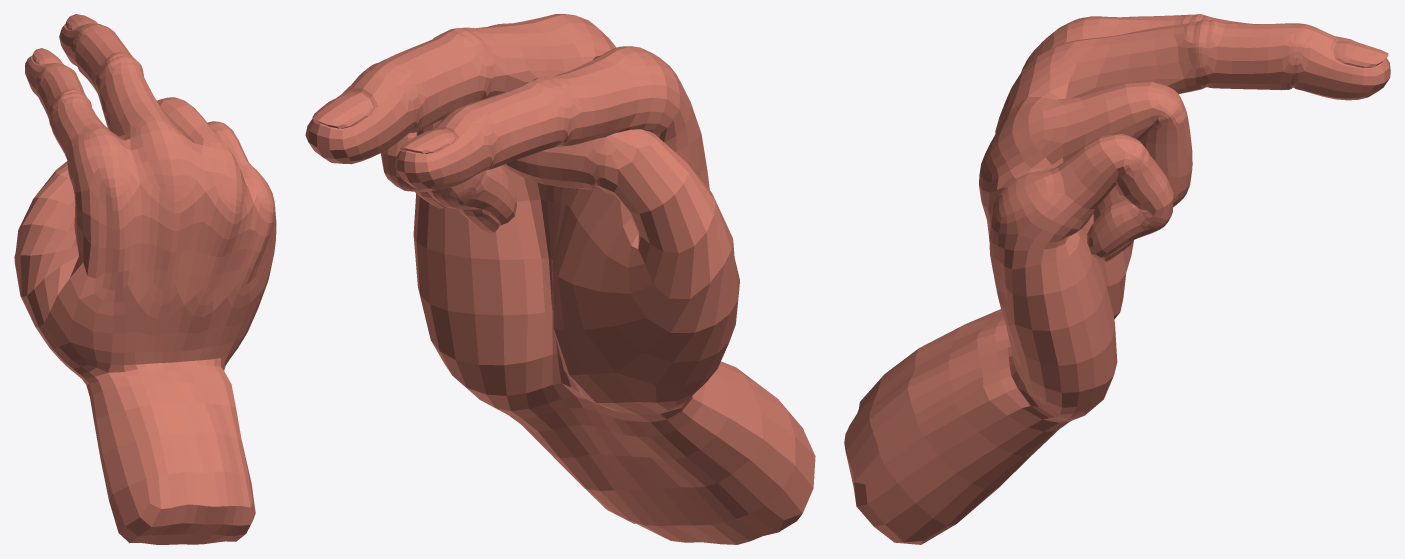
Rendered from tay.glb.
3 renders of one model, left to right at view 1: azimuth 30°, elevation 25°; view 2: azimuth 150°, elevation 25°; view 3: azimuth 270°, elevation 25°, orthographic. The views are drawn at different scales.
Visible parts, largest first — view 1: ZBrushPolyMesh3D; view 2: ZBrushPolyMesh3D; view 3: ZBrushPolyMesh3D.
Boxes of the visible parts, bbox=[...] form: ZBrushPolyMesh3D: bbox=[14, 14, 276, 544]; ZBrushPolyMesh3D: bbox=[305, 14, 815, 544]; ZBrushPolyMesh3D: bbox=[844, 14, 1390, 544].
Bounding box in the file's own units: 2.14 × 3.63 × 3.4.
